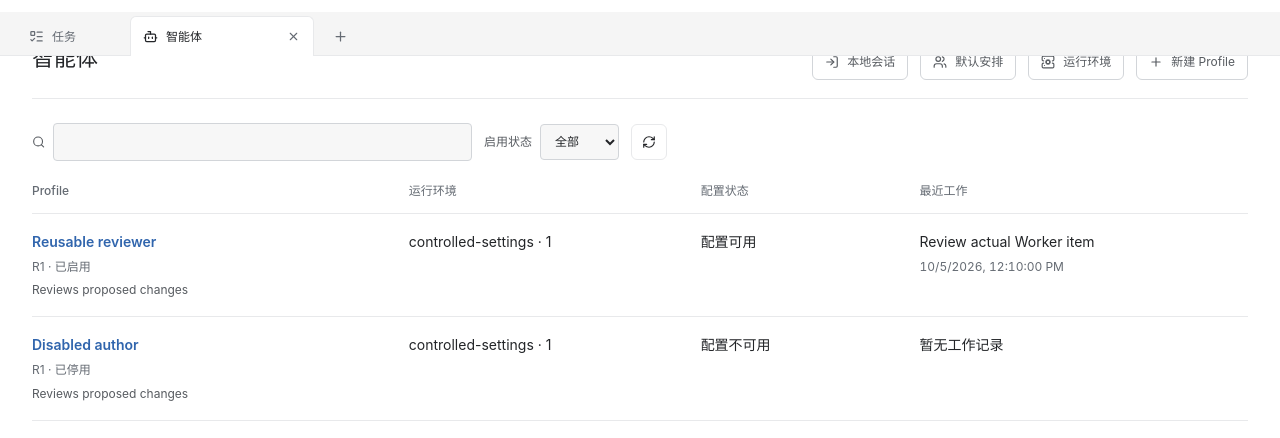
Test case: reusable Profile directory › filters explicit enabled state and literal name without selecting the first Profile
expect the link "Disabled author" is shown: met, box [32,336,139,353]
Select "已启用" in the dropdown labelled "启用状态" at (580, 142), box [540,124,619,160]
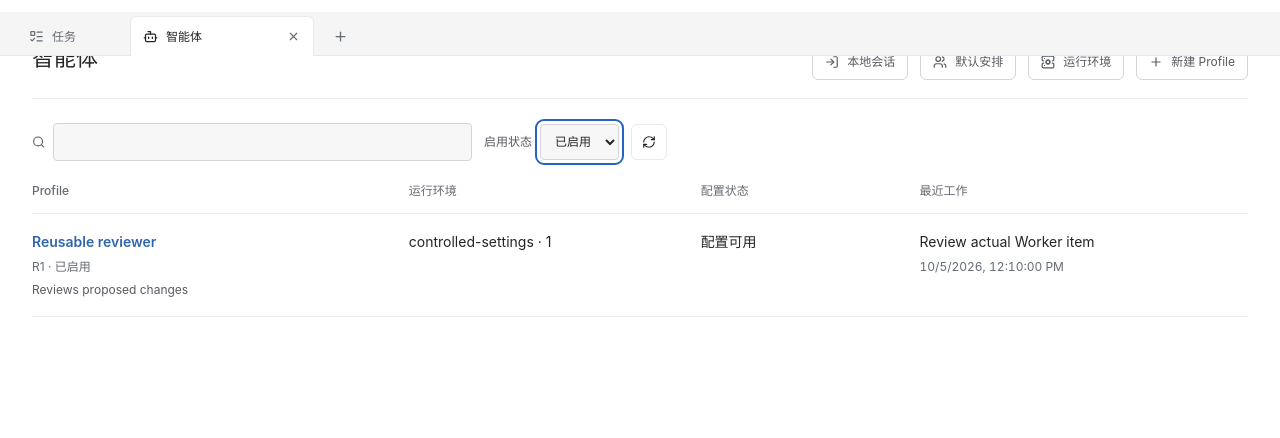
expect the link "Disabled author" is gone: met
Type "missing" into the search field named "搜索 Profile".
click(263, 142); type("missing")  # box [53,123,472,161]
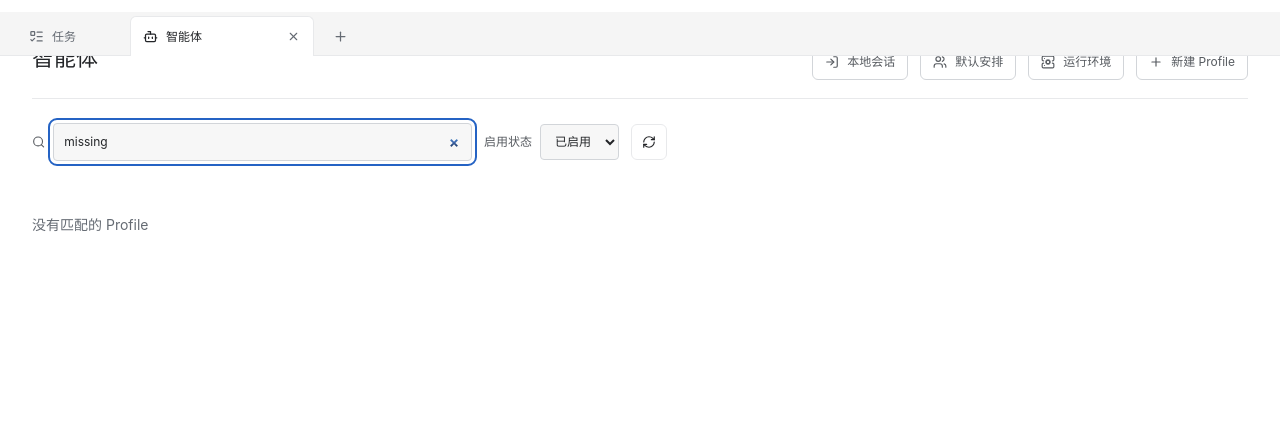
expect the text "没有匹配的 Profile" is shown: met, box [32,216,148,233]
